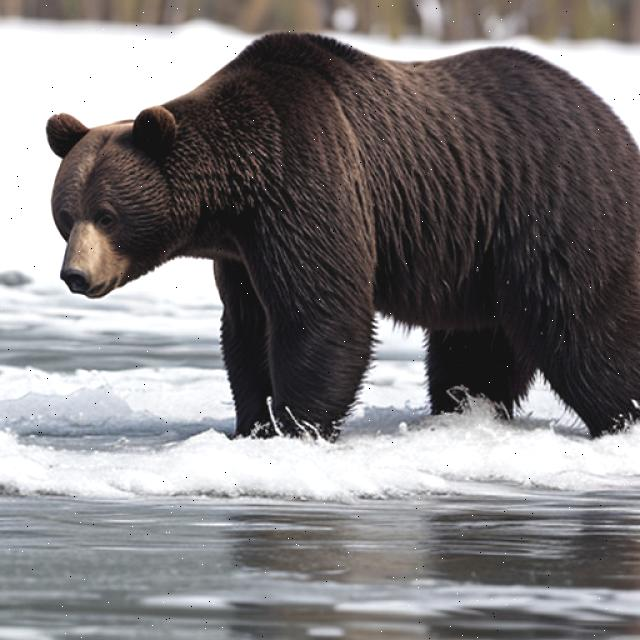bear: (48, 71, 297, 308)
